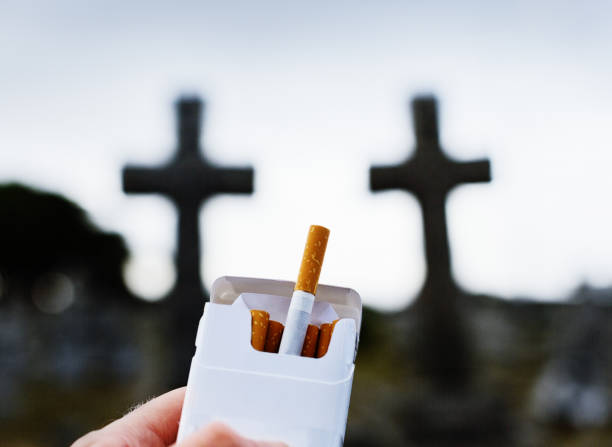cigarette: (174, 274, 362, 447), (278, 224, 331, 356), (250, 308, 271, 351), (263, 318, 285, 352), (315, 323, 336, 358), (299, 323, 320, 357)
